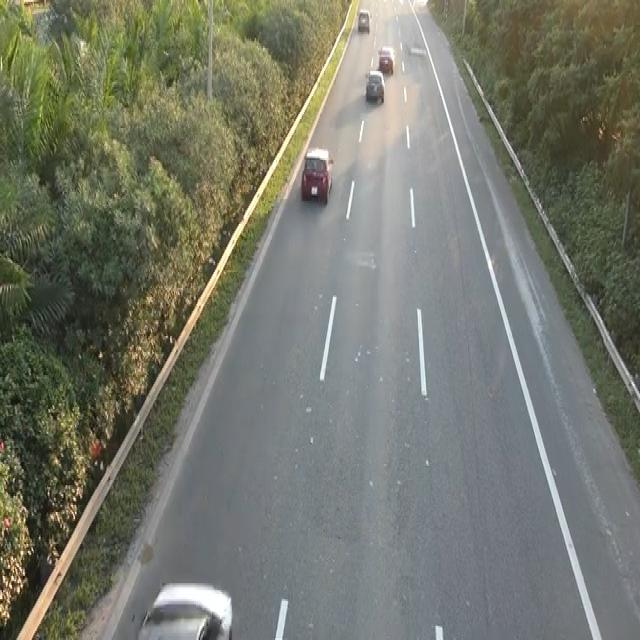bus: (135, 578, 234, 636), (298, 144, 336, 212), (364, 68, 385, 103)
